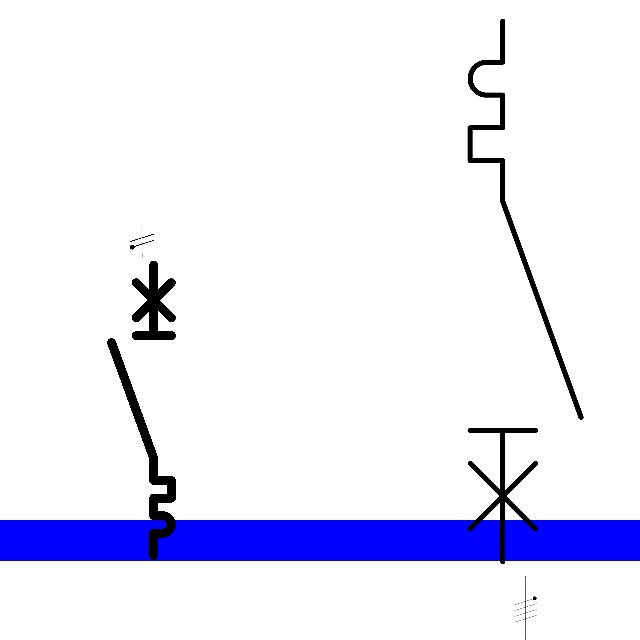interruptor_termomagnetico: (456, 7, 595, 576), (104, 257, 179, 563)
